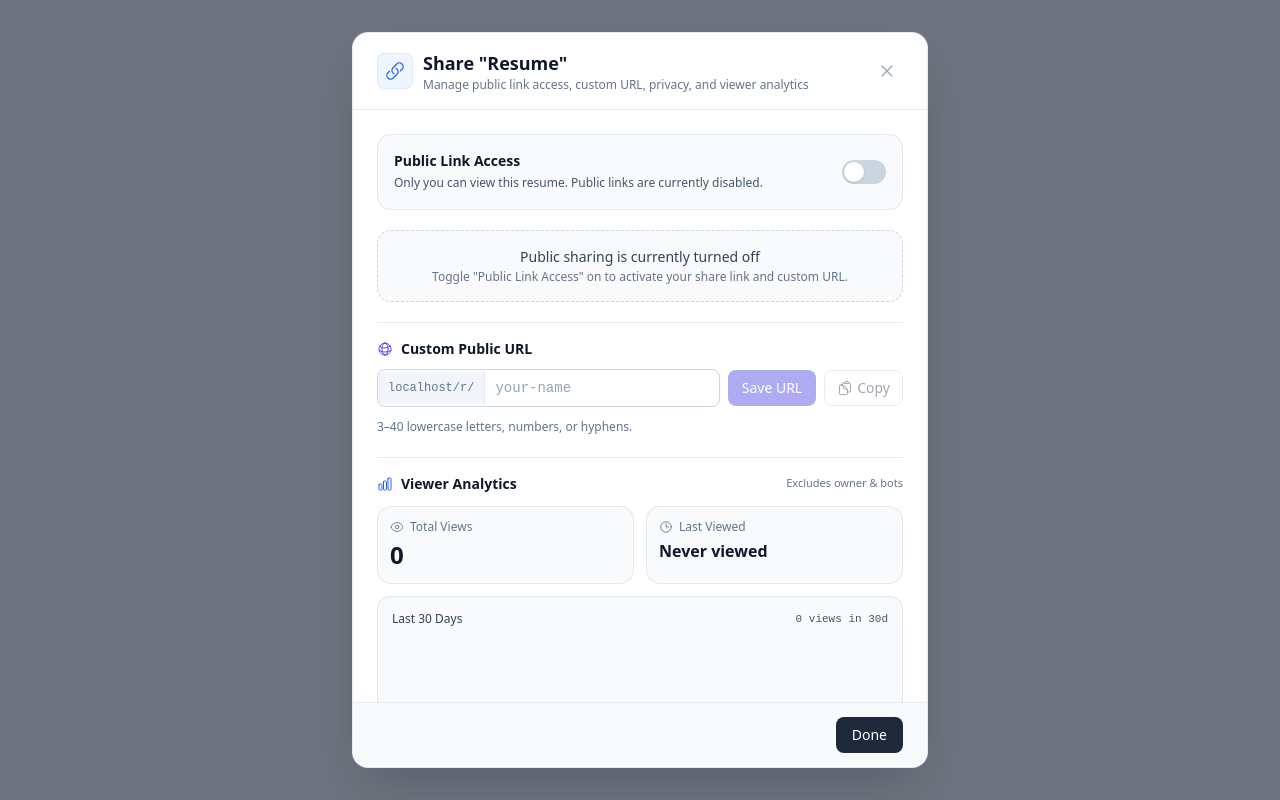
Test: Public Share & Privacy Controls › ShareModal Component › enables sharing and displays generated link and token
# Toggle public switch
Click the switch. click: (864, 172)
box: 842,160 -> 886,184
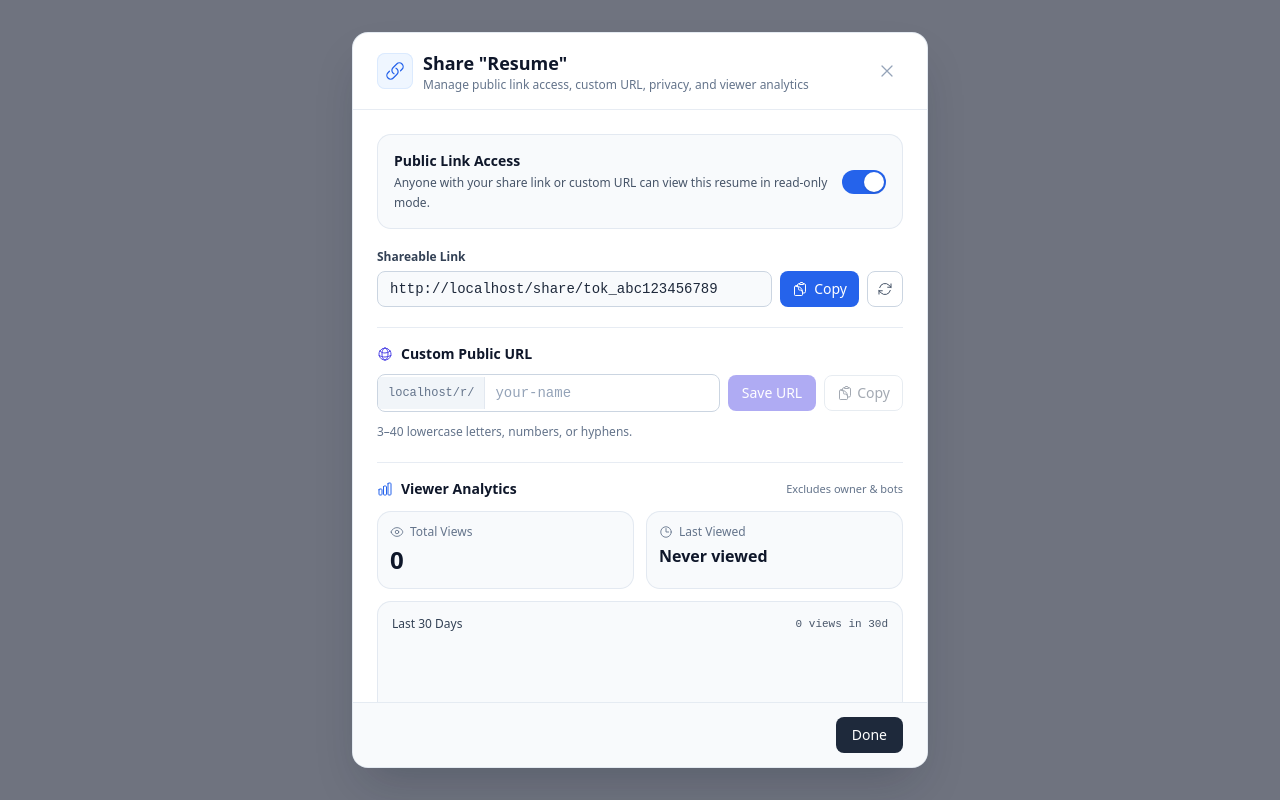
Expected: the field showing "tok_abc123456789" is shown, 377,271 -> 772,307
